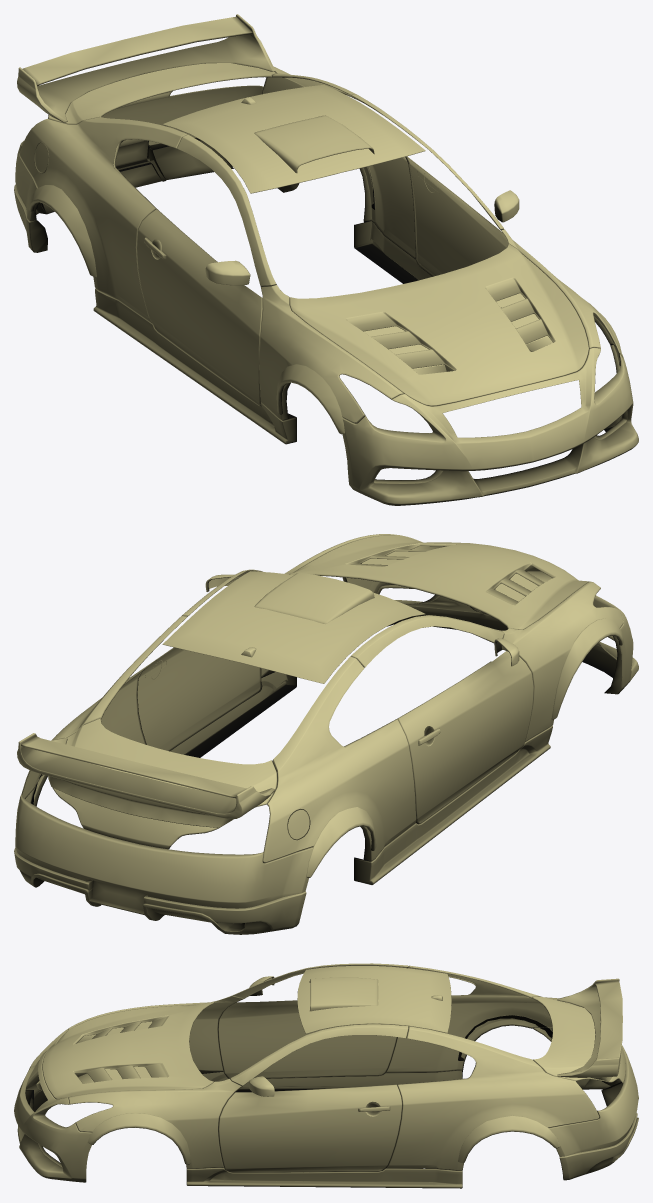
File: G37_Atlas_UVs_Test.fbx
The picture shows the model from 3 angles, top to bottom: view 1: azimuth 30°, elevation 25°; view 2: azimuth 150°, elevation 25°; view 3: azimuth 270°, elevation 25°; orthographic projection. The views are drawn at different scales.
Parts seen in each view (by area): view 1: G37_Chassis_Duco, G37_Fender_01_Duco, G37_Hood_05_Duco, G37_FB_03_Duco, G37_Spoiler_03_Duco, G37_RB_04_Duco, G37_Skirt_04_Duco, G37_Extra_Scoop_Duco; view 2: G37_Chassis_Duco, G37_Fender_01_Duco, G37_RB_04_Duco, G37_Hood_05_Duco, G37_Spoiler_03_Duco, G37_Skirt_04_Duco, G37_FB_03_Duco, G37_Extra_Scoop_Duco; view 3: G37_Chassis_Duco, G37_Fender_01_Duco, G37_Hood_05_Duco, G37_Skirt_04_Duco, G37_RB_04_Duco, G37_FB_03_Duco, G37_Spoiler_03_Duco, G37_Extra_Scoop_Duco.
Part boxes in pixels (box(x1,y1,x2,y2)): G37_Chassis_Duco: box(48, 63, 519, 405); G37_Fender_01_Duco: box(19, 66, 623, 434); G37_Hood_05_Duco: box(289, 244, 589, 406); G37_FB_03_Duco: box(342, 344, 638, 505); G37_Spoiler_03_Duco: box(17, 14, 275, 122); G37_RB_04_Duco: box(14, 85, 299, 252); G37_Skirt_04_Duco: box(93, 221, 432, 444); G37_Extra_Scoop_Duco: box(254, 115, 374, 173); G37_Chassis_Duco: box(52, 569, 533, 849); G37_Fender_01_Duco: box(21, 534, 623, 877); G37_RB_04_Duco: box(14, 775, 312, 934); G37_Hood_05_Duco: box(290, 535, 588, 629); G37_Spoiler_03_Duco: box(17, 733, 275, 827); G37_Skirt_04_Duco: box(170, 670, 552, 884); G37_FB_03_Duco: box(342, 536, 638, 694); G37_Extra_Scoop_Duco: box(254, 573, 374, 624); G37_Chassis_Duco: box(218, 963, 625, 1172); G37_Fender_01_Duco: box(68, 965, 599, 1170); G37_Hood_05_Duco: box(42, 1002, 214, 1099); G37_Skirt_04_Duco: box(186, 1070, 462, 1188); G37_RB_04_Duco: box(533, 1027, 638, 1180); G37_FB_03_Duco: box(14, 1028, 91, 1182); G37_Spoiler_03_Duco: box(557, 978, 622, 1081); G37_Extra_Scoop_Duco: box(309, 977, 378, 1011).
Bounding box in the file's own units: 200 × 124 × 471.
